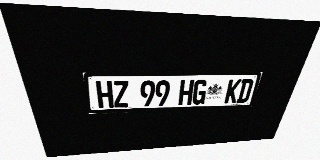9: (140, 80, 155, 107), (155, 80, 170, 106)
D: (236, 79, 254, 103)
G: (191, 79, 208, 105)
H: (95, 81, 114, 108), (178, 80, 194, 105)
K: (224, 79, 242, 103)
Z: (112, 80, 129, 108)
